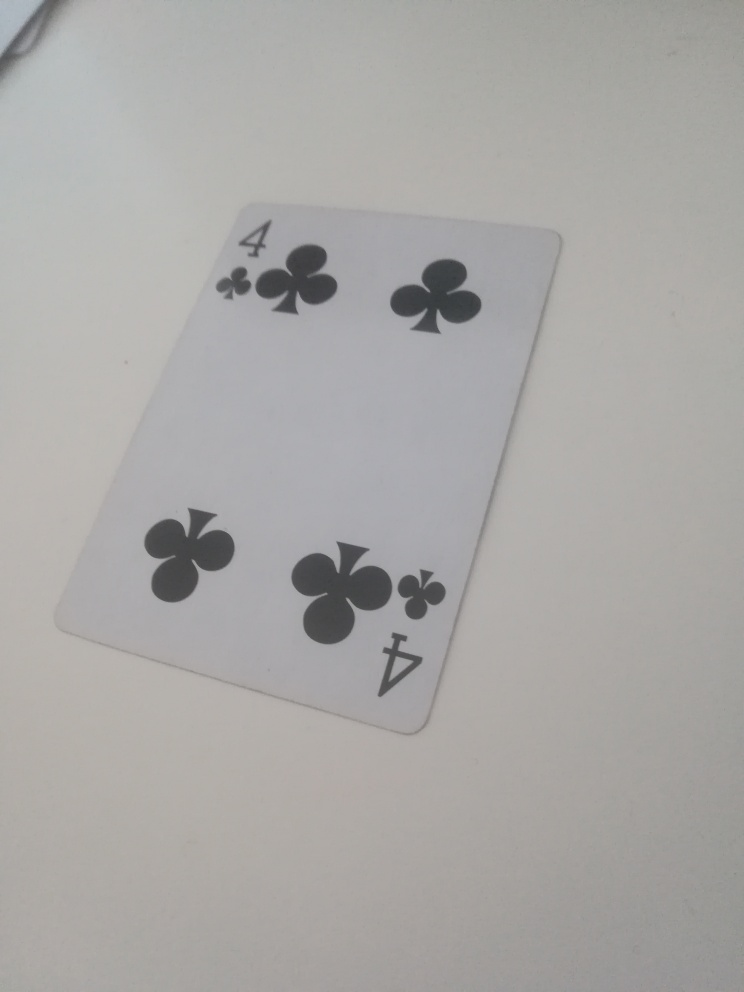4C: (212, 210, 284, 307)
